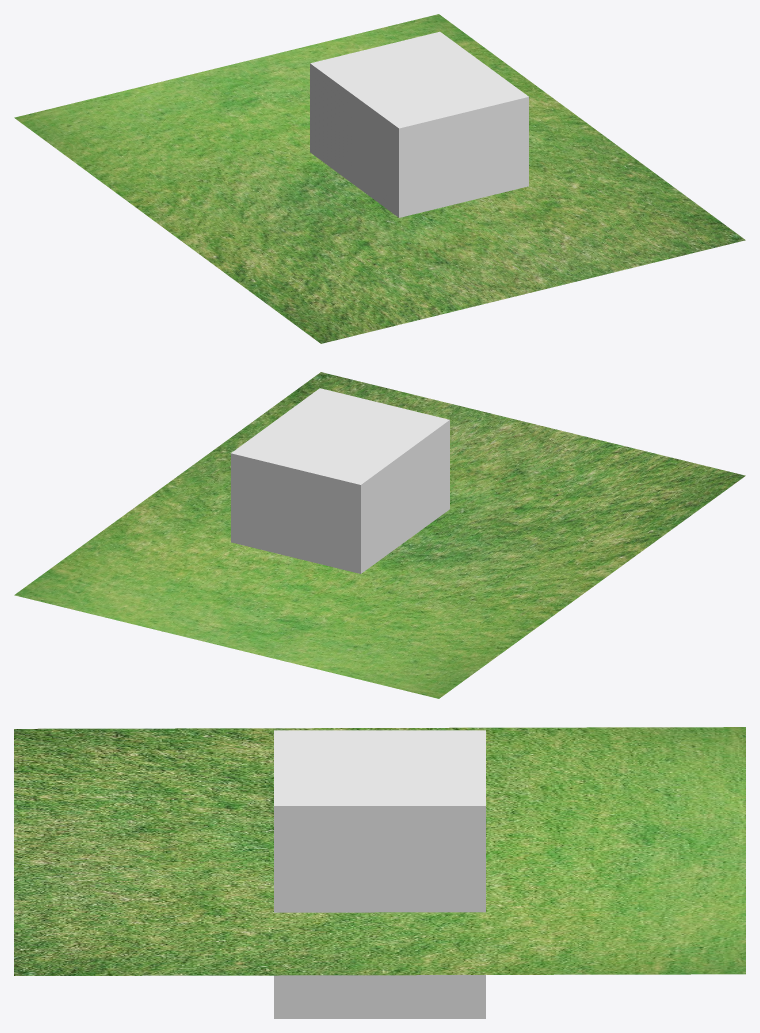
The picture shows the model from 3 angles, top to bottom: view 1: azimuth 30°, elevation 25°; view 2: azimuth 150°, elevation 25°; view 3: azimuth 270°, elevation 25°; orthographic projection. The views are drawn at different scales.
Parts seen in each view (by area): view 1: Plane, Box; view 2: Plane, Box; view 3: Plane, Box.
Boxes of the visible parts, <box> form: Plane: <box>14,14,745,343</box>; Box: <box>310,31,528,217</box>; Plane: <box>14,372,745,698</box>; Box: <box>231,388,449,573</box>; Plane: <box>14,727,745,975</box>; Box: <box>274,730,485,1018</box>.
Bounding box in the file's own units: 30 × 12.04 × 37.54.
Materials: 2 (1 with a texture image).
